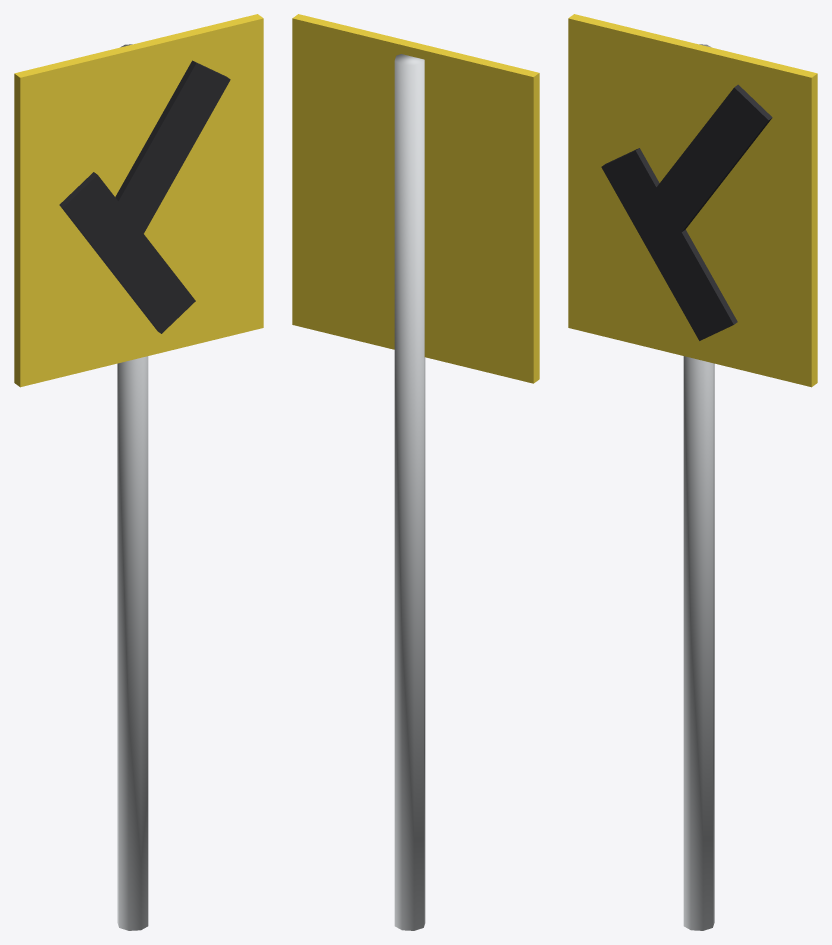
Rendered from sign_chevron.glb.
3 views of the same model, side by side, from view 1: azimuth 30°, elevation 25°; view 2: azimuth 150°, elevation 25°; view 3: azimuth 330°, elevation 25° (orthographic).
Visible parts, largest first — view 1: Sign.001; view 2: Sign.001; view 3: Sign.001.
Part boxes in pixels (x1,y1,x2,y2): Sign.001: (14, 14, 263, 930); Sign.001: (292, 14, 539, 930); Sign.001: (568, 14, 817, 930).
Bounding box in the file's own units: 0.7 × 2.42 × 0.11.
